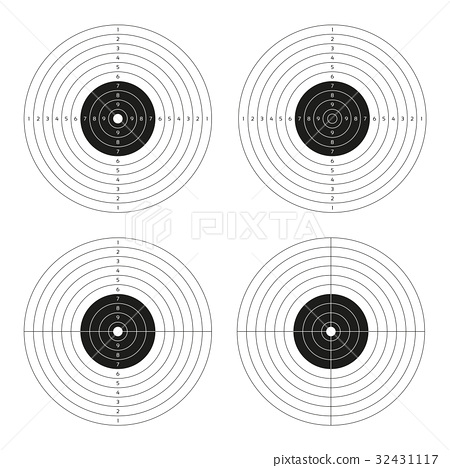target: (232, 14, 431, 222), (19, 14, 218, 219), (17, 237, 222, 433), (236, 236, 427, 431)
